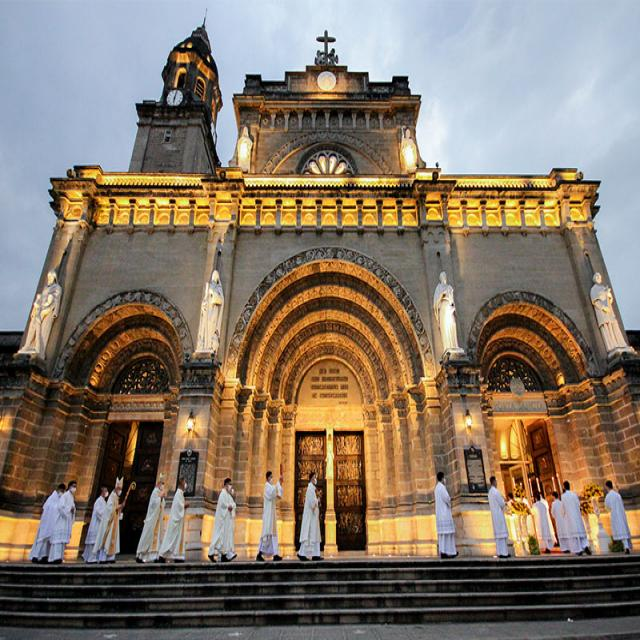Manila Cathedral: (0, 4, 640, 576)
